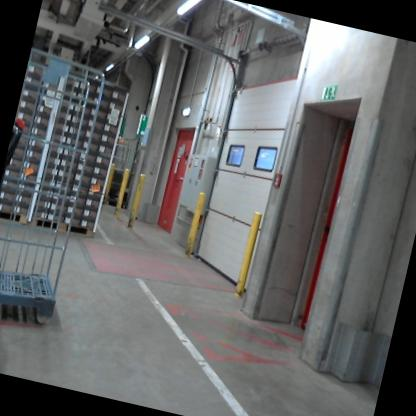pallet: (27, 215, 98, 247), (0, 198, 33, 232)
pallet_truck: (0, 110, 44, 307)
